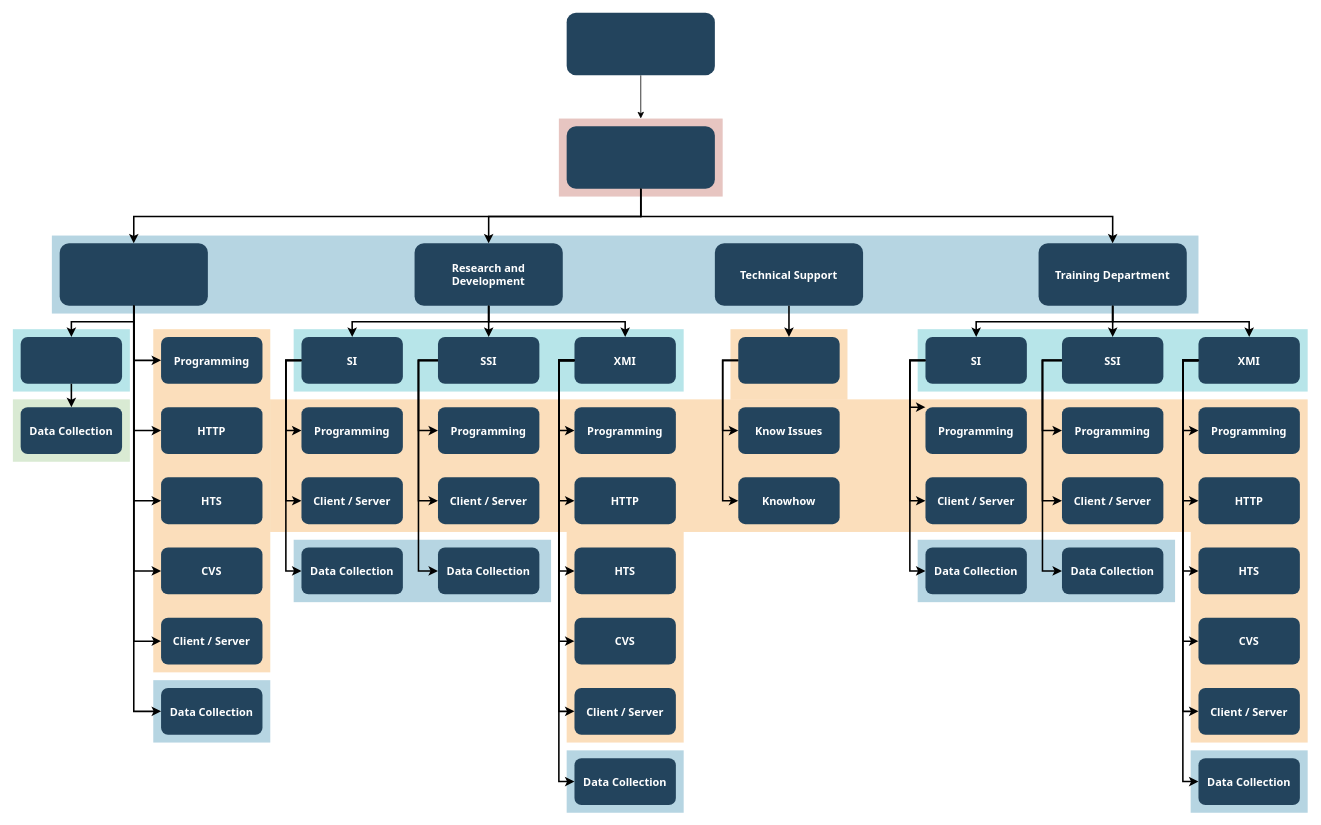
The diagram is 1321 pixels wide and 825 high, and some of its shapes have lost their labels. Here are the shapes that lost their labels. From the top down, the centre of each, then its label:
At pixel 640 43: "Motivacion Problema Global".
At pixel 640 157: "Tarea".
At pixel 133 274: "Human Resources".
At pixel 71 360: "Regular Report".
At pixel 788 360: "FAQ".
